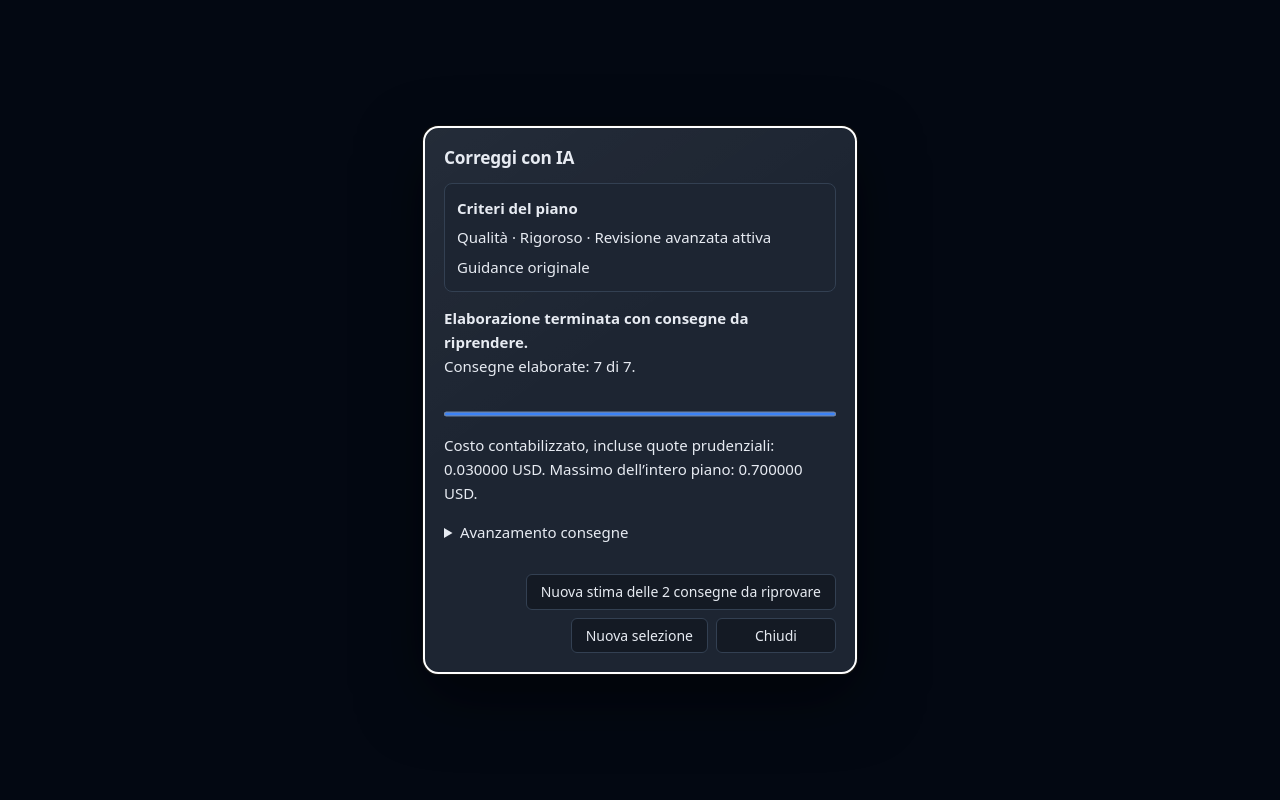
Test: planned correction UI › offers an explicit fresh estimate only for terminal failed deliveries, including timeouts with uncertain old billing
Click the button "Nuova stima delle 2 consegne da riprovare" at point(681, 592), box top-left (526, 574), bottom-right (836, 610)
(page scrolled)
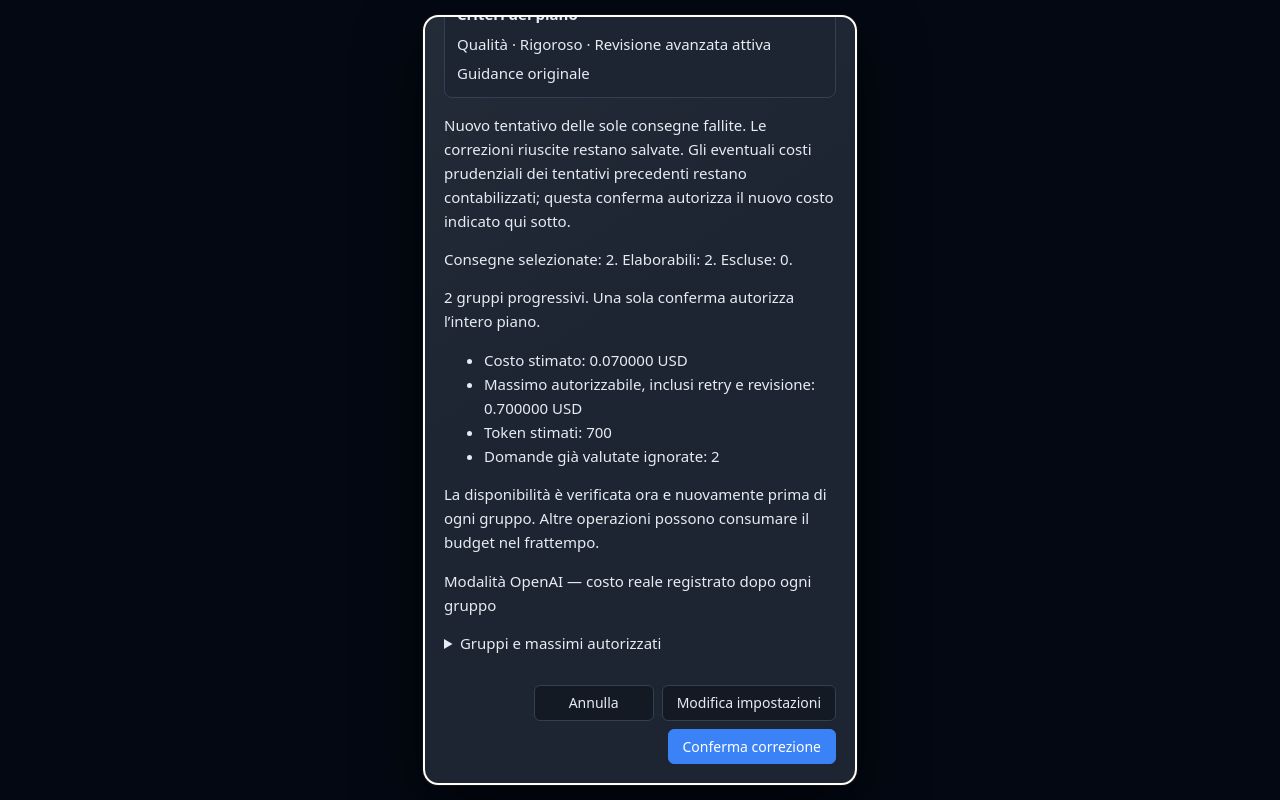
Check: the button "Conferma correzione" is shown, box top-left (668, 729), bottom-right (836, 764)
Check: the text "Gli eventuali costi prudenziali dei tentativi precedenti restano contabilizzati" is shown, box top-left (444, 115), bottom-right (834, 231)
Click the button "Modifica impostazioni" at point(749, 703), box top-left (662, 685), bottom-right (836, 721)
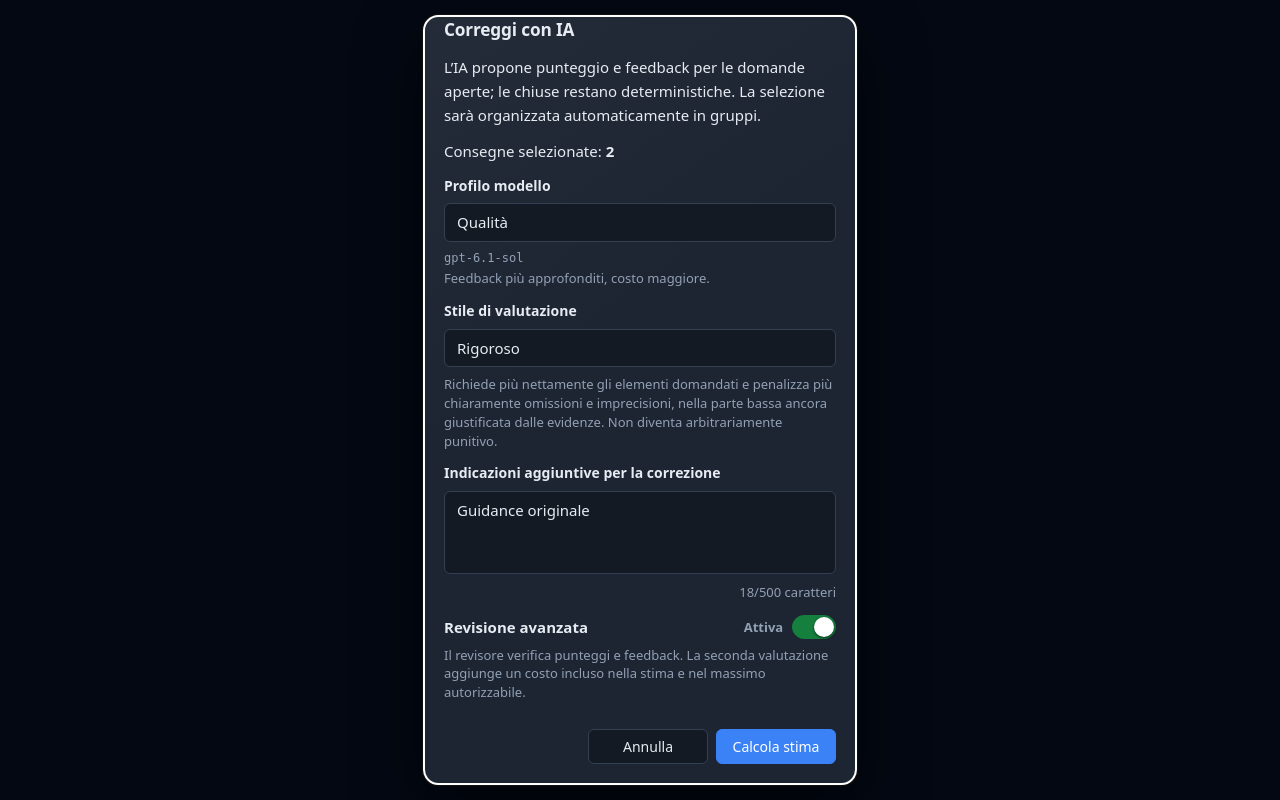
Check: the text "2" is shown, box top-left (606, 141), bottom-right (614, 161)
Click the button "Calcola stima" at point(776, 747), box top-left (716, 729), bottom-right (836, 764)
(page scrolled)
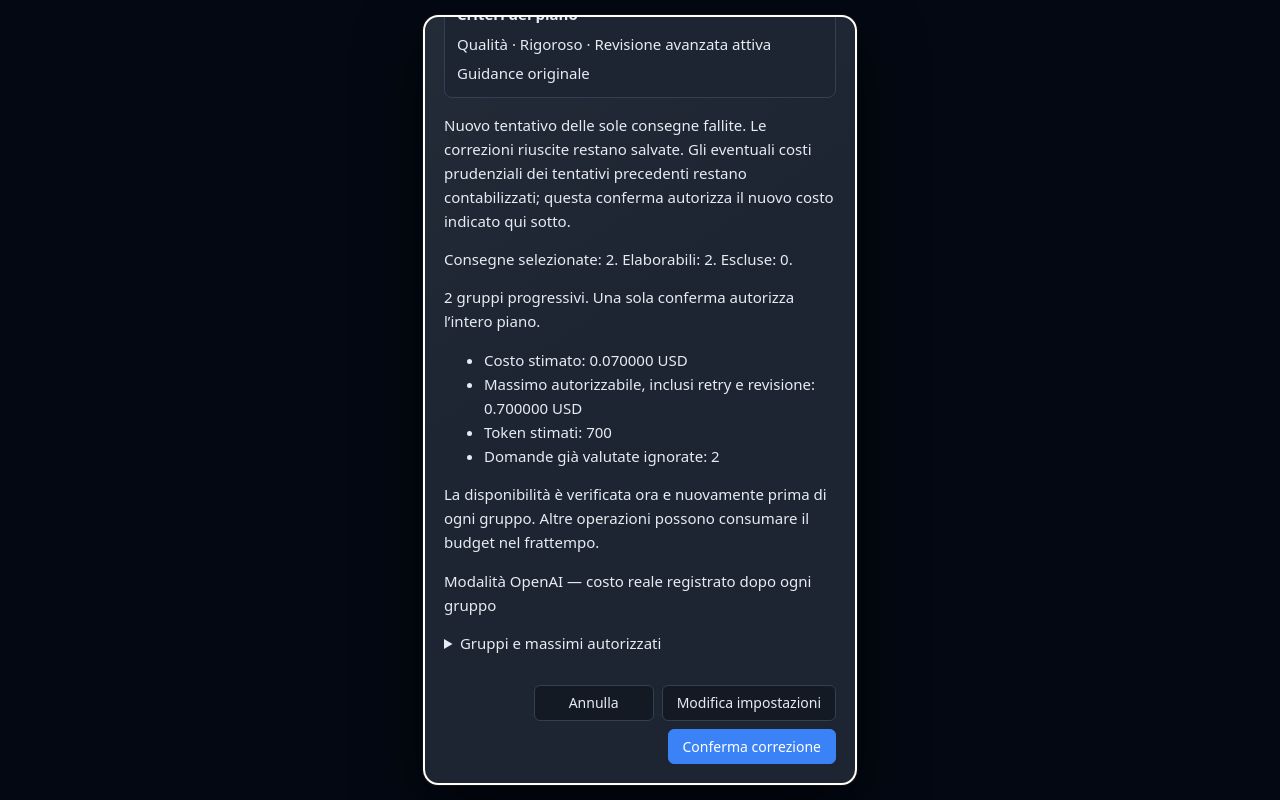
Check: the button "Conferma correzione" is shown
Click the button "Conferma correzione" at point(752, 747), box top-left (668, 729), bottom-right (836, 764)
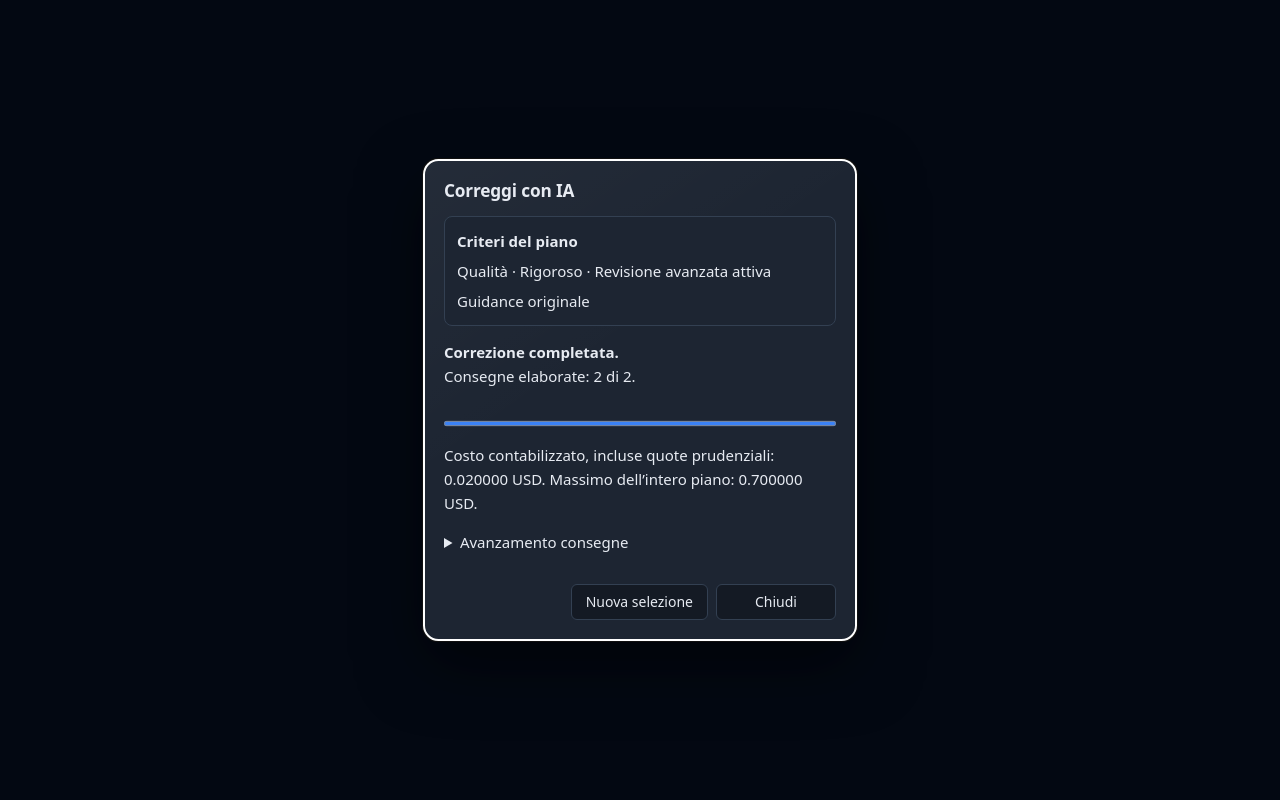
Check: the text "Correzione completata." is shown, box top-left (444, 342), bottom-right (619, 362)
